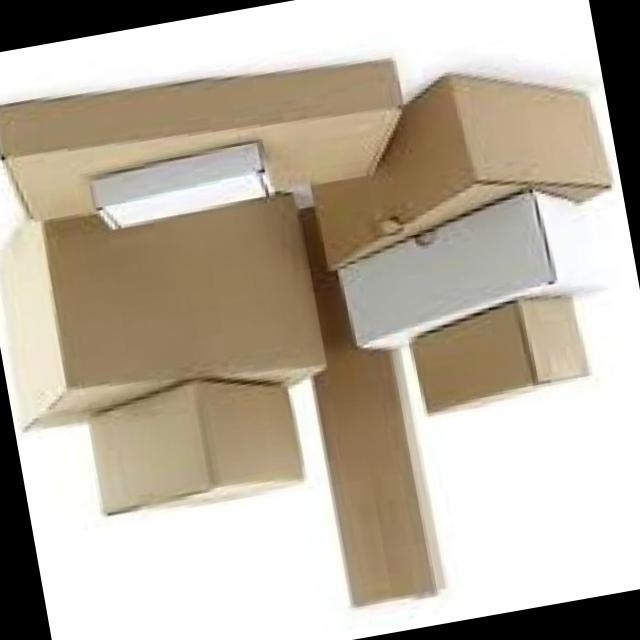cardboard paper: (0, 197, 324, 432), (0, 62, 401, 222), (312, 77, 609, 271), (338, 194, 555, 350), (89, 383, 302, 516), (412, 298, 587, 414)
